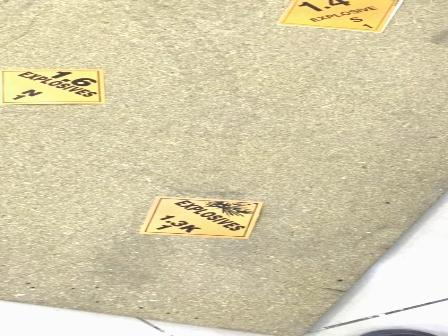explosive: (140, 196, 260, 237), (277, 1, 400, 36), (2, 69, 102, 103)
